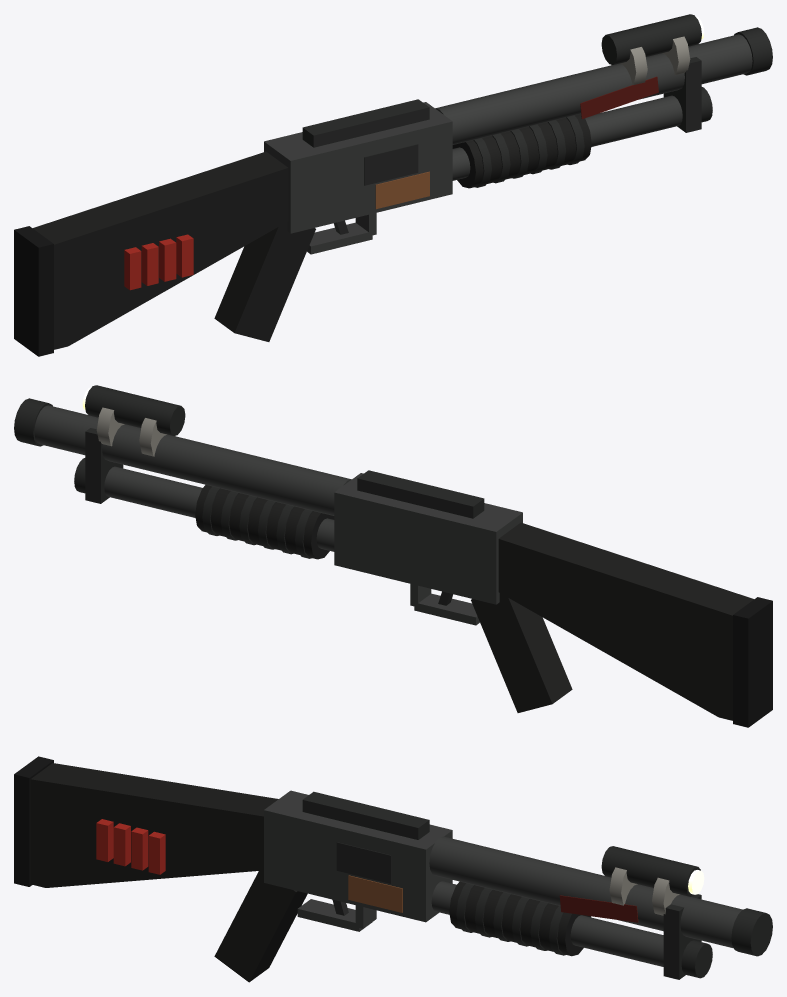
The model's file is escopeta.glb.
3 views of the same model, one above another, from view 1: azimuth 30°, elevation 25°; view 2: azimuth 150°, elevation 25°; view 3: azimuth 330°, elevation 25° (orthographic).
Parts seen in each view (by area): view 1: culata, cajon, canon, empunadura_m, cantonera, corredera_bombeo, tubo_cargador, riel_superior, linterna, ventana_expulsion, abrazadera, mancha_oxido (+9 smaller); view 2: culata, cajon, canon, empunadura_m, cantonera, corredera_bombeo, tubo_cargador, riel_superior, linterna, abrazadera, guarda_gatillo, boca_canon (+2 smaller); view 3: culata, cajon, canon, empunadura_m, corredera_bombeo, tubo_cargador, riel_superior, linterna, cantonera, ventana_expulsion, boca_canon, abrazadera (+16 smaller).
Boxes of the visible parts, x1,y1,x2,y2 form: culata: [33, 151, 288, 349]; cajon: [264, 102, 452, 233]; canon: [435, 34, 752, 144]; empunadura_m: [214, 222, 315, 341]; cantonera: [14, 226, 53, 356]; corredera_bombeo: [452, 114, 591, 188]; tubo_cargador: [452, 95, 682, 180]; riel_superior: [302, 99, 429, 147]; linterna: [601, 14, 701, 64]; ventana_expulsion: [364, 144, 418, 185]; abrazadera: [663, 57, 701, 132]; mancha_oxido: [375, 171, 429, 209]; culata: [498, 522, 753, 720]; cajon: [334, 473, 522, 604]; canon: [34, 405, 351, 515]; empunadura_m: [471, 593, 572, 712]; cantonera: [733, 597, 772, 727]; corredera_bombeo: [195, 484, 334, 559]; tubo_cargador: [104, 466, 334, 551]; riel_superior: [357, 470, 484, 518]; linterna: [85, 385, 185, 435]; abrazadera: [85, 428, 123, 503]; guarda_gatillo: [414, 593, 479, 625]; boca_canon: [14, 398, 52, 446]; culata: [30, 763, 278, 887]; cajon: [264, 790, 452, 922]; canon: [429, 836, 742, 948]; empunadura_m: [214, 870, 307, 982]; corredera_bombeo: [449, 881, 591, 956]; tubo_cargador: [431, 881, 663, 966]; riel_superior: [302, 791, 429, 839]; linterna: [601, 846, 700, 896]; cantonera: [14, 756, 53, 886]; ventana_expulsion: [336, 842, 391, 883]; boca_canon: [731, 908, 772, 956]; abrazadera: [663, 894, 701, 979].
Bounding box in the file's own units: 1.9 × 0.5289 × 0.138.
